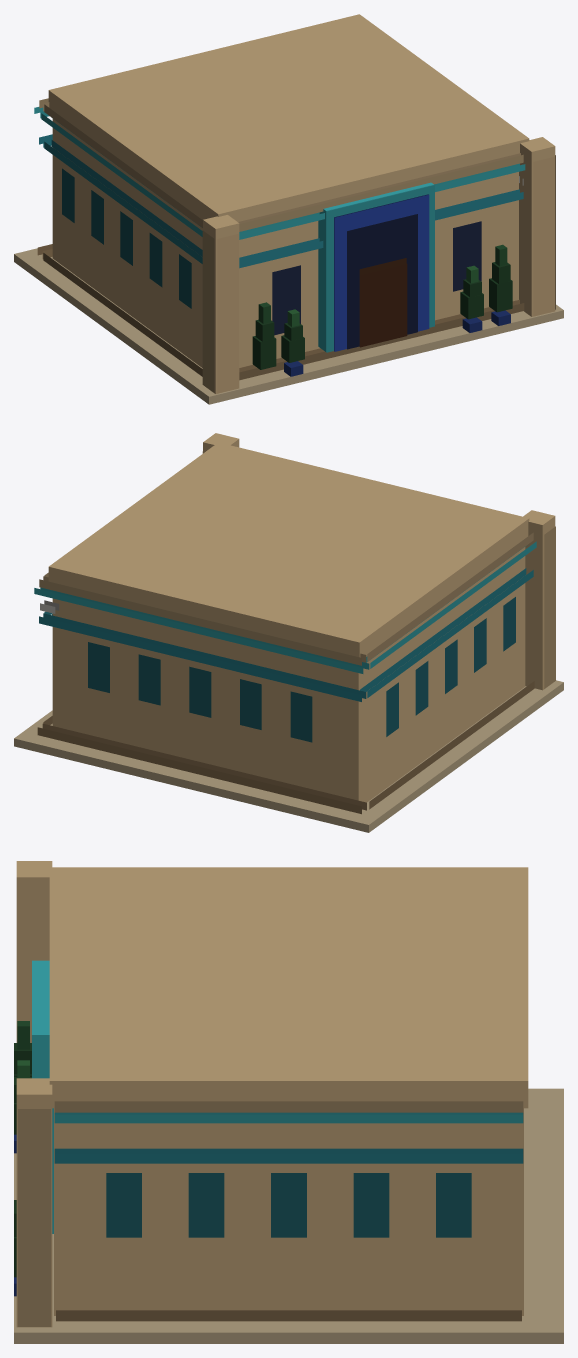
File: TornadoKingSil.fbx
3 views of the same model, one above another, from view 1: azimuth 30°, elevation 25°; view 2: azimuth 150°, elevation 25°; view 3: azimuth 270°, elevation 25° (orthographic). The views are drawn at different scales.
Parts seen in each view (by area): view 1: TK_S_All; view 2: TK_S_All; view 3: TK_S_All.
Boxes of the visible parts, x1,y1,x2,y2 form: TK_S_All: [14, 14, 563, 404]; TK_S_All: [14, 433, 563, 832]; TK_S_All: [14, 861, 563, 1343].
Size of the model in its own units: 42.04 by 19.9 by 40.04.
